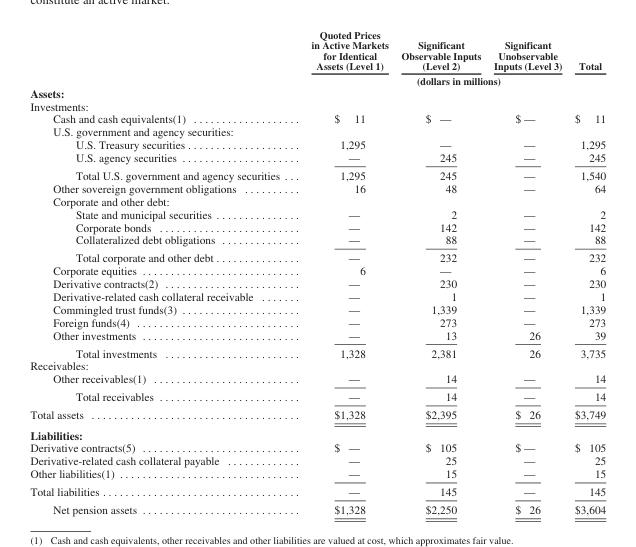table: (29, 28, 605, 515)
table column: (29, 28, 294, 515), (294, 28, 394, 515), (394, 28, 486, 515), (486, 28, 567, 515), (567, 28, 605, 515)
table column header: (29, 28, 605, 86)
table projected row header: (29, 424, 605, 441), (29, 86, 605, 99), (29, 99, 605, 112), (29, 124, 605, 137), (29, 194, 605, 207), (29, 359, 605, 371)
table row: (29, 28, 605, 72), (29, 405, 605, 424), (29, 387, 605, 405), (29, 482, 605, 500), (29, 424, 605, 441), (29, 150, 605, 166), (29, 343, 605, 359), (29, 371, 605, 387), (29, 466, 605, 482), (29, 166, 605, 181), (29, 233, 605, 248), (29, 248, 605, 263), (29, 328, 605, 343), (29, 500, 605, 515), (29, 72, 605, 86), (29, 86, 605, 99), (29, 99, 605, 112), (29, 124, 605, 137), (29, 137, 605, 150), (29, 181, 605, 194), (29, 194, 605, 207), (29, 207, 605, 220), (29, 220, 605, 233), (29, 263, 605, 276), (29, 276, 605, 289), (29, 289, 605, 302), (29, 302, 605, 315), (29, 315, 605, 328), (29, 441, 605, 454), (29, 112, 605, 124), (29, 359, 605, 371), (29, 454, 605, 466)
table spanning cell: (294, 72, 605, 86)
